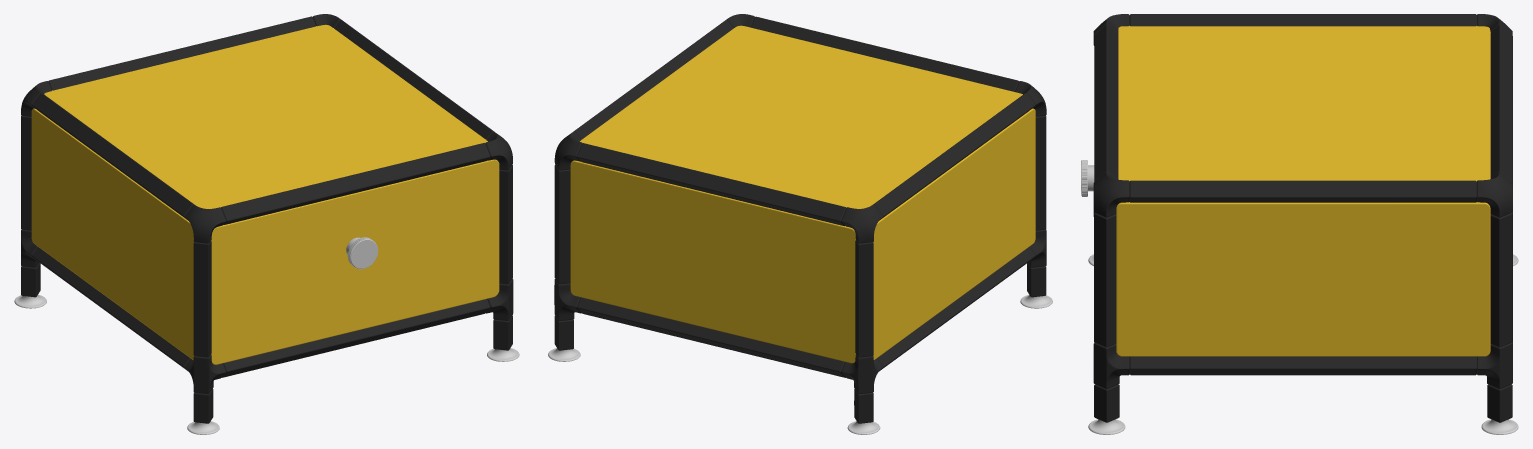
3 views of the same model, side by side, from view 1: azimuth 30°, elevation 25°; view 2: azimuth 150°, elevation 25°; view 3: azimuth 270°, elevation 25° (orthographic). The views are drawn at different scales.
Visible parts, largest first — view 1: 374x374x154; view 2: 374x374x154; view 3: 374x374x154.
Boxes of the visible parts, <box> form: 374x374x154: <box>14,14,519,434</box>; 374x374x154: <box>548,14,1052,434</box>; 374x374x154: <box>1081,14,1518,434</box>.
Bounding box in the file's own units: 0.4639 × 0.2933 × 0.4707.
